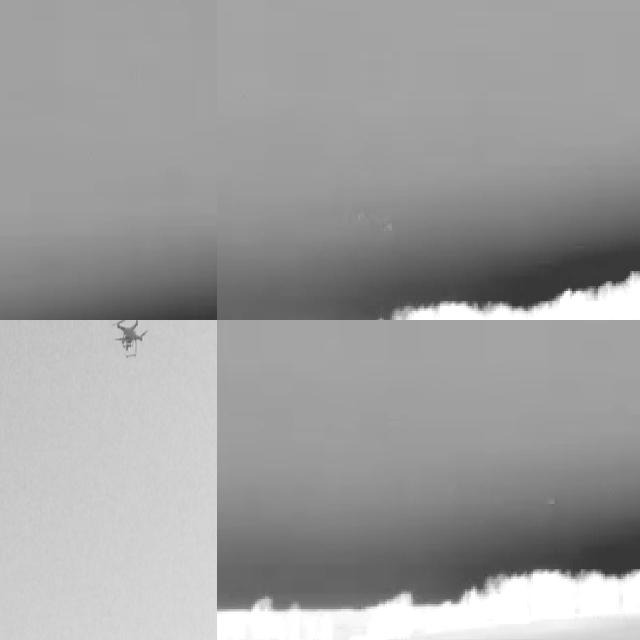0: (534, 487, 564, 519), (377, 216, 405, 246)
drone: (110, 320, 147, 358)
